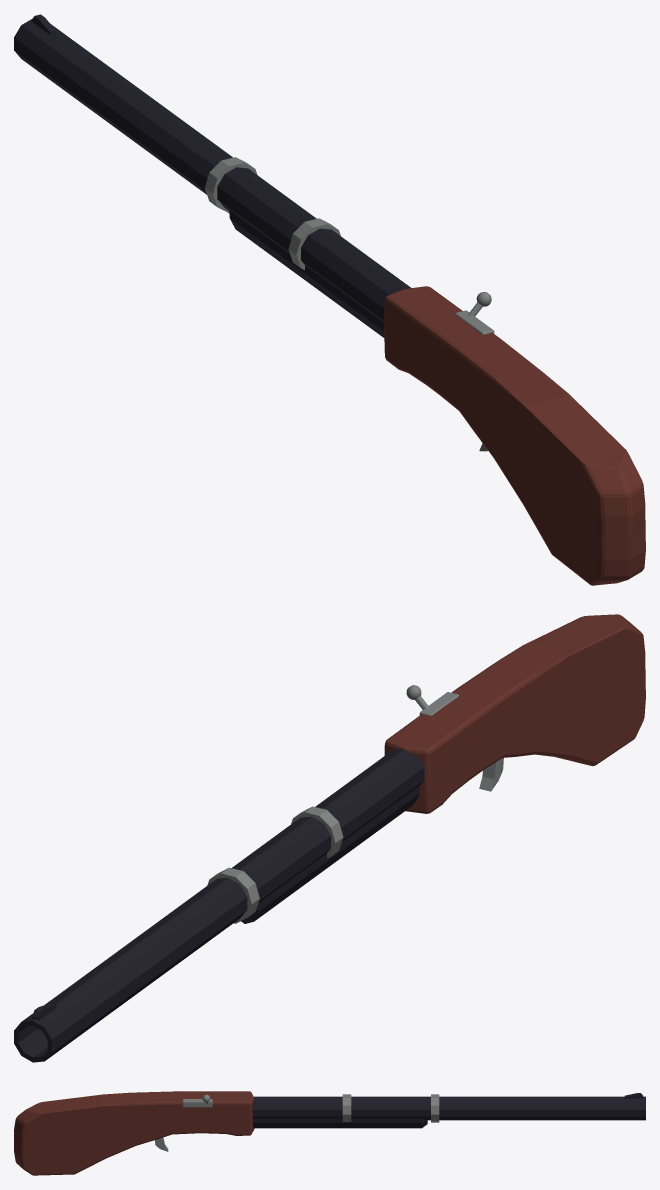
The model's file is oldRifle.fbx.
3 renders of one model, top to bottom at view 1: azimuth 30°, elevation 25°; view 2: azimuth 150°, elevation 25°; view 3: azimuth 270°, elevation 25°, orthographic. The views are drawn at different scales.
Visible parts, largest first — view 1: Handle, nozzle?, smoler nozzle, Rings 1, Rings 2; view 2: Handle, nozzle?, smoler nozzle, Rings 1, Rings 2; view 3: Handle, nozzle?, smoler nozzle, Rings 2, Rings 1, Ball Stick Platform.
Part boxes in pixels (bbox=[...]): Handle: bbox=[384, 286, 645, 585]; nozzle?: bbox=[14, 18, 411, 322]; smoler nozzle: bbox=[229, 210, 384, 337]; Rings 1: bbox=[205, 157, 257, 212]; Rings 2: bbox=[288, 218, 340, 270]; Handle: bbox=[384, 614, 645, 813]; nozzle?: bbox=[14, 749, 424, 1062]; smoler nozzle: bbox=[241, 785, 419, 923]; Rings 1: bbox=[207, 867, 259, 923]; Rings 2: bbox=[291, 806, 343, 858]; Handle: bbox=[14, 1091, 254, 1175]; nozzle?: bbox=[252, 1096, 645, 1120]; smoler nozzle: bbox=[253, 1118, 427, 1128]; Rings 2: bbox=[342, 1094, 351, 1121]; Rings 1: bbox=[431, 1094, 439, 1122]; Ball Stick Platform: bbox=[182, 1099, 212, 1107].
Size of the model in its own units: 6.49 by 15.49 by 103.
